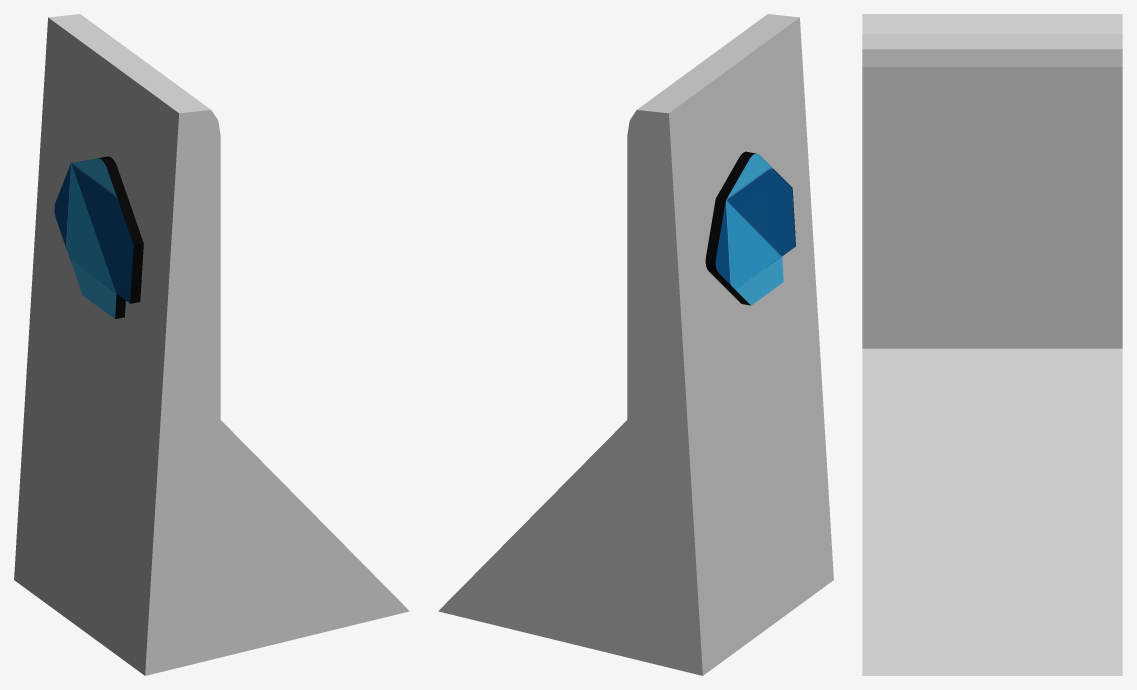
Rendered from dart-state.glb.
3 views of the same model, side by side, from view 1: azimuth 30°, elevation 25°; view 2: azimuth 150°, elevation 25°; view 3: azimuth 270°, elevation 25° (orthographic).
Visible parts, largest first — view 1: state, skill; view 2: state, skill; view 3: state.
Part boxes in pixels (bbox=[...]): state: bbox=[14, 14, 409, 675]; skill: bbox=[54, 156, 143, 318]; state: bbox=[438, 14, 833, 675]; skill: bbox=[705, 151, 795, 305]; state: bbox=[862, 14, 1122, 675].
Size of the model in its own units: 3.5 by 7 by 3.
2 materials, 1 textured.
